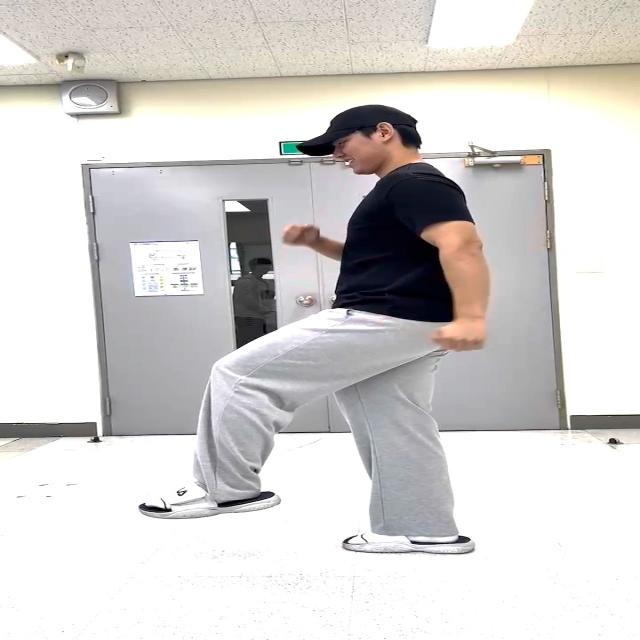leg: (127, 314, 376, 554)
